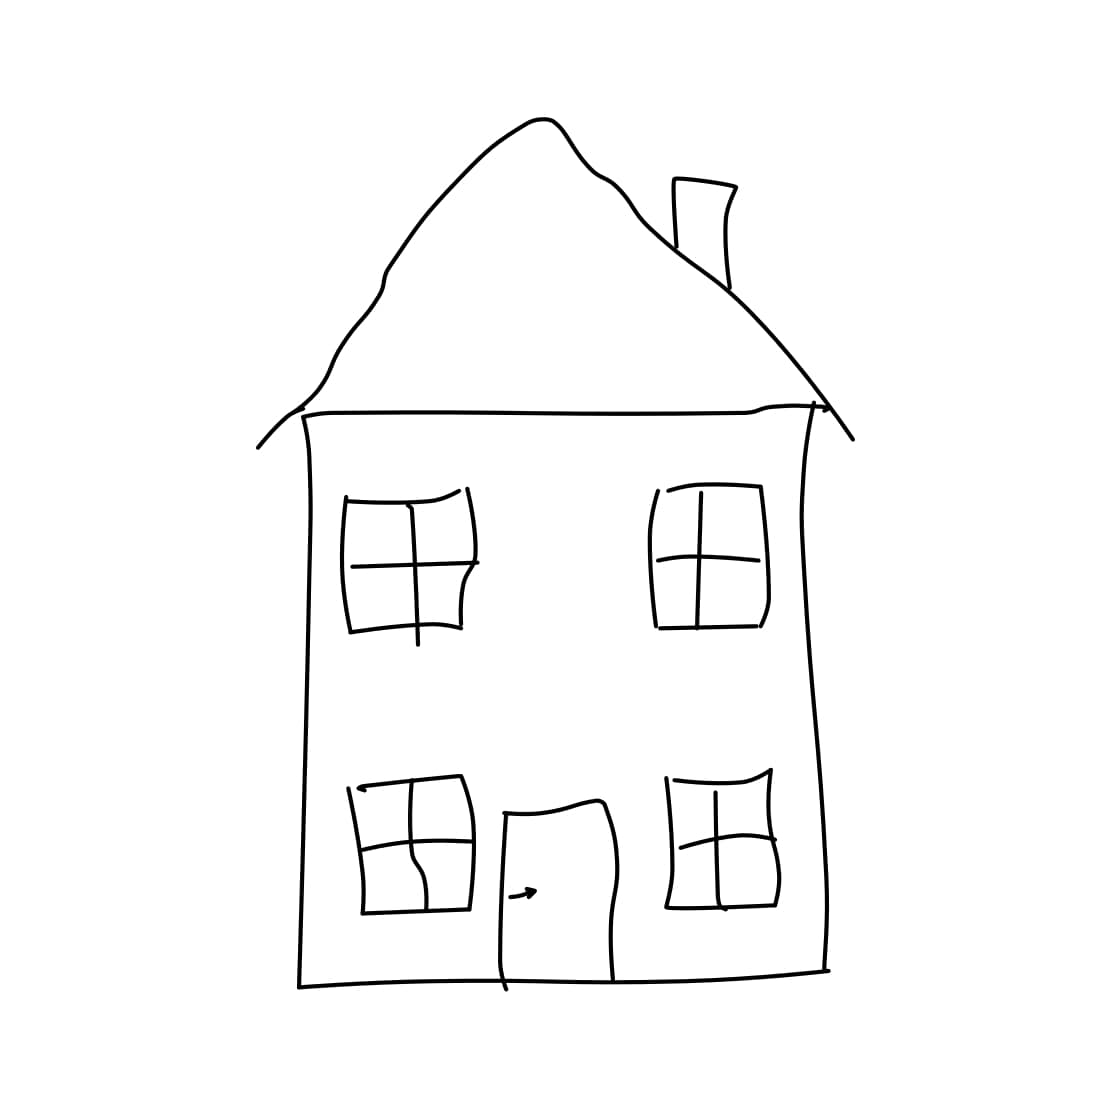House: (222, 80, 915, 1003)
